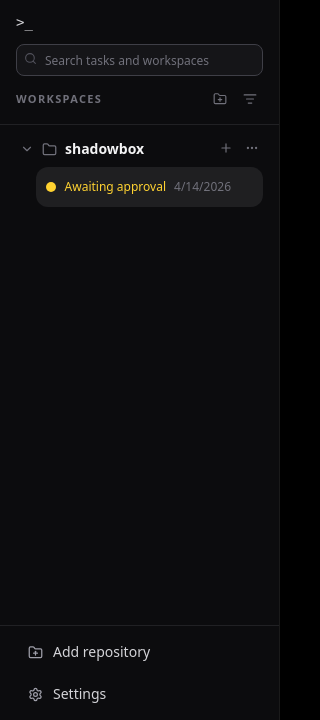
AgentSidebar › shows the awaiting approval filter option in the sidebar menu
Click the button named "Filter tasks".
click(250, 99)  # box [237, 86, 263, 112]
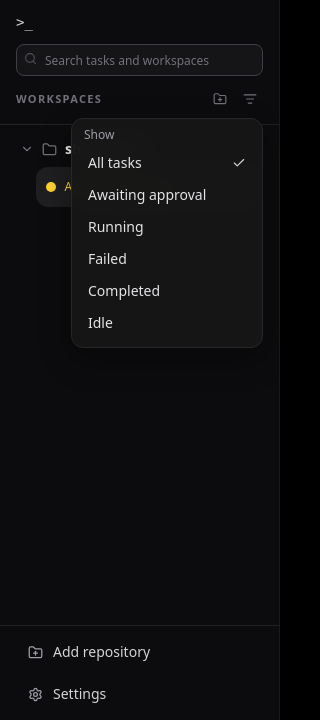
Expected: the menu item "Awaiting approval" is shown, [80, 179, 254, 211]
